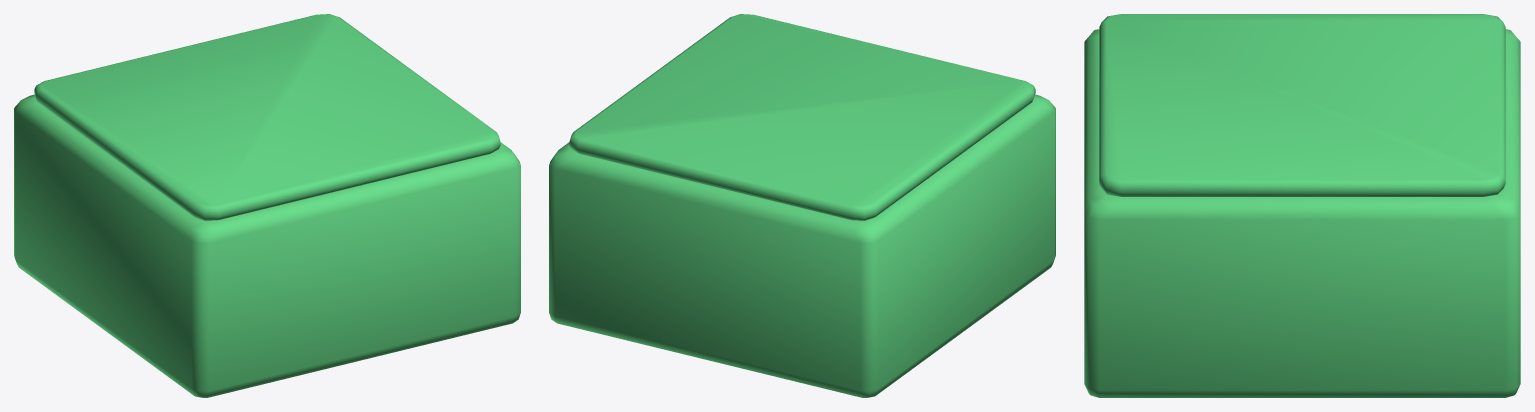
Rendered from Block-O-Green.fbx.
The picture shows the model from 3 angles, left to right: view 1: azimuth 30°, elevation 25°; view 2: azimuth 150°, elevation 25°; view 3: azimuth 270°, elevation 25°; orthographic projection. The views are drawn at different scales.
Visible parts, largest first — view 1: Block-O-Green, Cube.004; view 2: Block-O-Green, Cube.004; view 3: Block-O-Green, Cube.004.
Boxes of the visible parts, left/top/right/bottom form: Block-O-Green: left=14, top=94, right=520, bottom=397; Cube.004: left=34, top=14, right=500, bottom=220; Block-O-Green: left=549, top=94, right=1055, bottom=397; Cube.004: left=569, top=14, right=1035, bottom=220; Block-O-Green: left=1084, top=29, right=1520, bottom=397; Cube.004: left=1099, top=14, right=1505, bottom=196.
Bounding box in the file's own units: 100 × 54.24 × 100.
